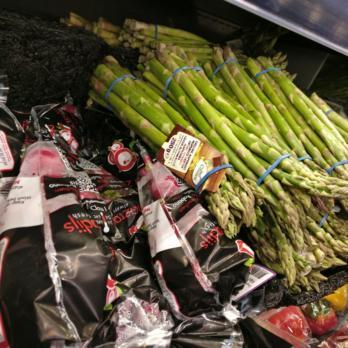Asparagus: (92, 51, 348, 122), (150, 89, 304, 141), (139, 127, 348, 163), (198, 179, 348, 220), (246, 229, 348, 278)
